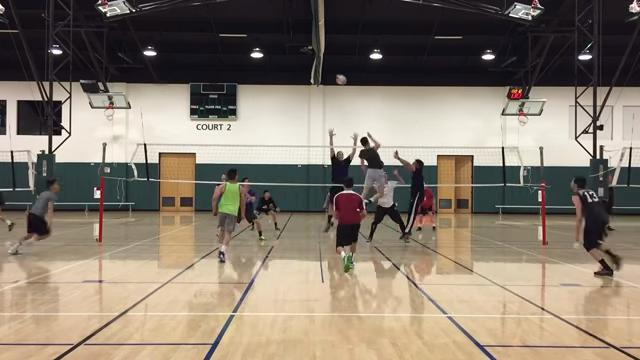muro: (326, 124, 359, 189)
